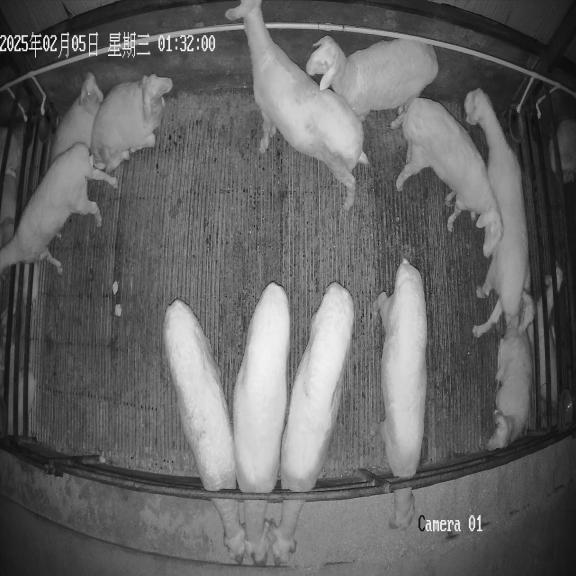eating: (269, 282, 354, 563), (164, 299, 252, 564), (232, 282, 290, 564), (372, 257, 427, 529)
lying: (90, 74, 173, 171), (486, 291, 534, 450), (52, 73, 104, 158)
stand: (226, 0, 369, 210), (390, 98, 504, 257), (464, 89, 530, 336), (0, 142, 117, 273), (306, 36, 438, 121)
